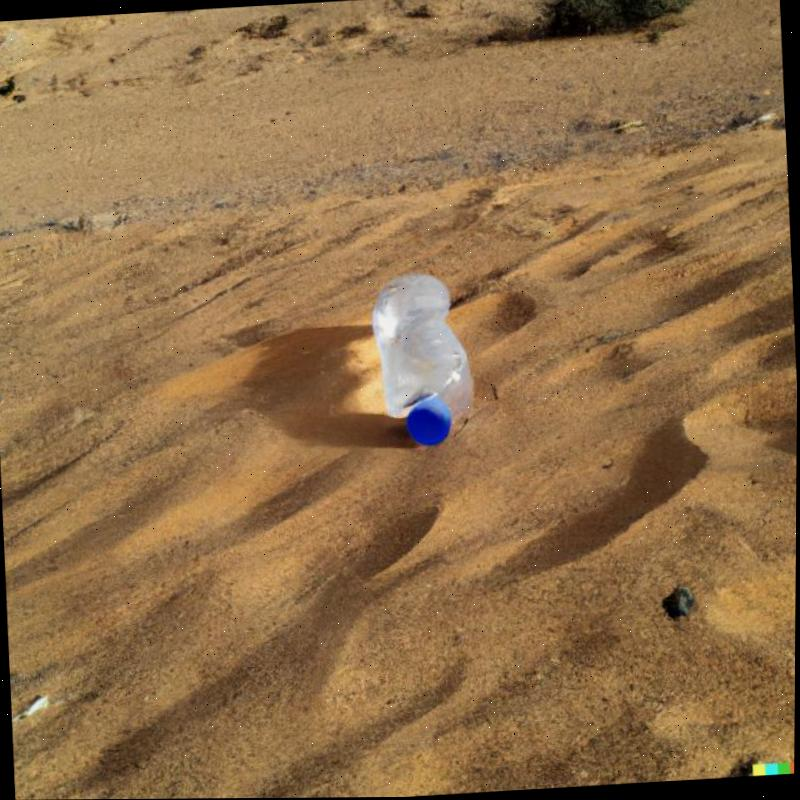botella: (361, 274, 477, 451)
